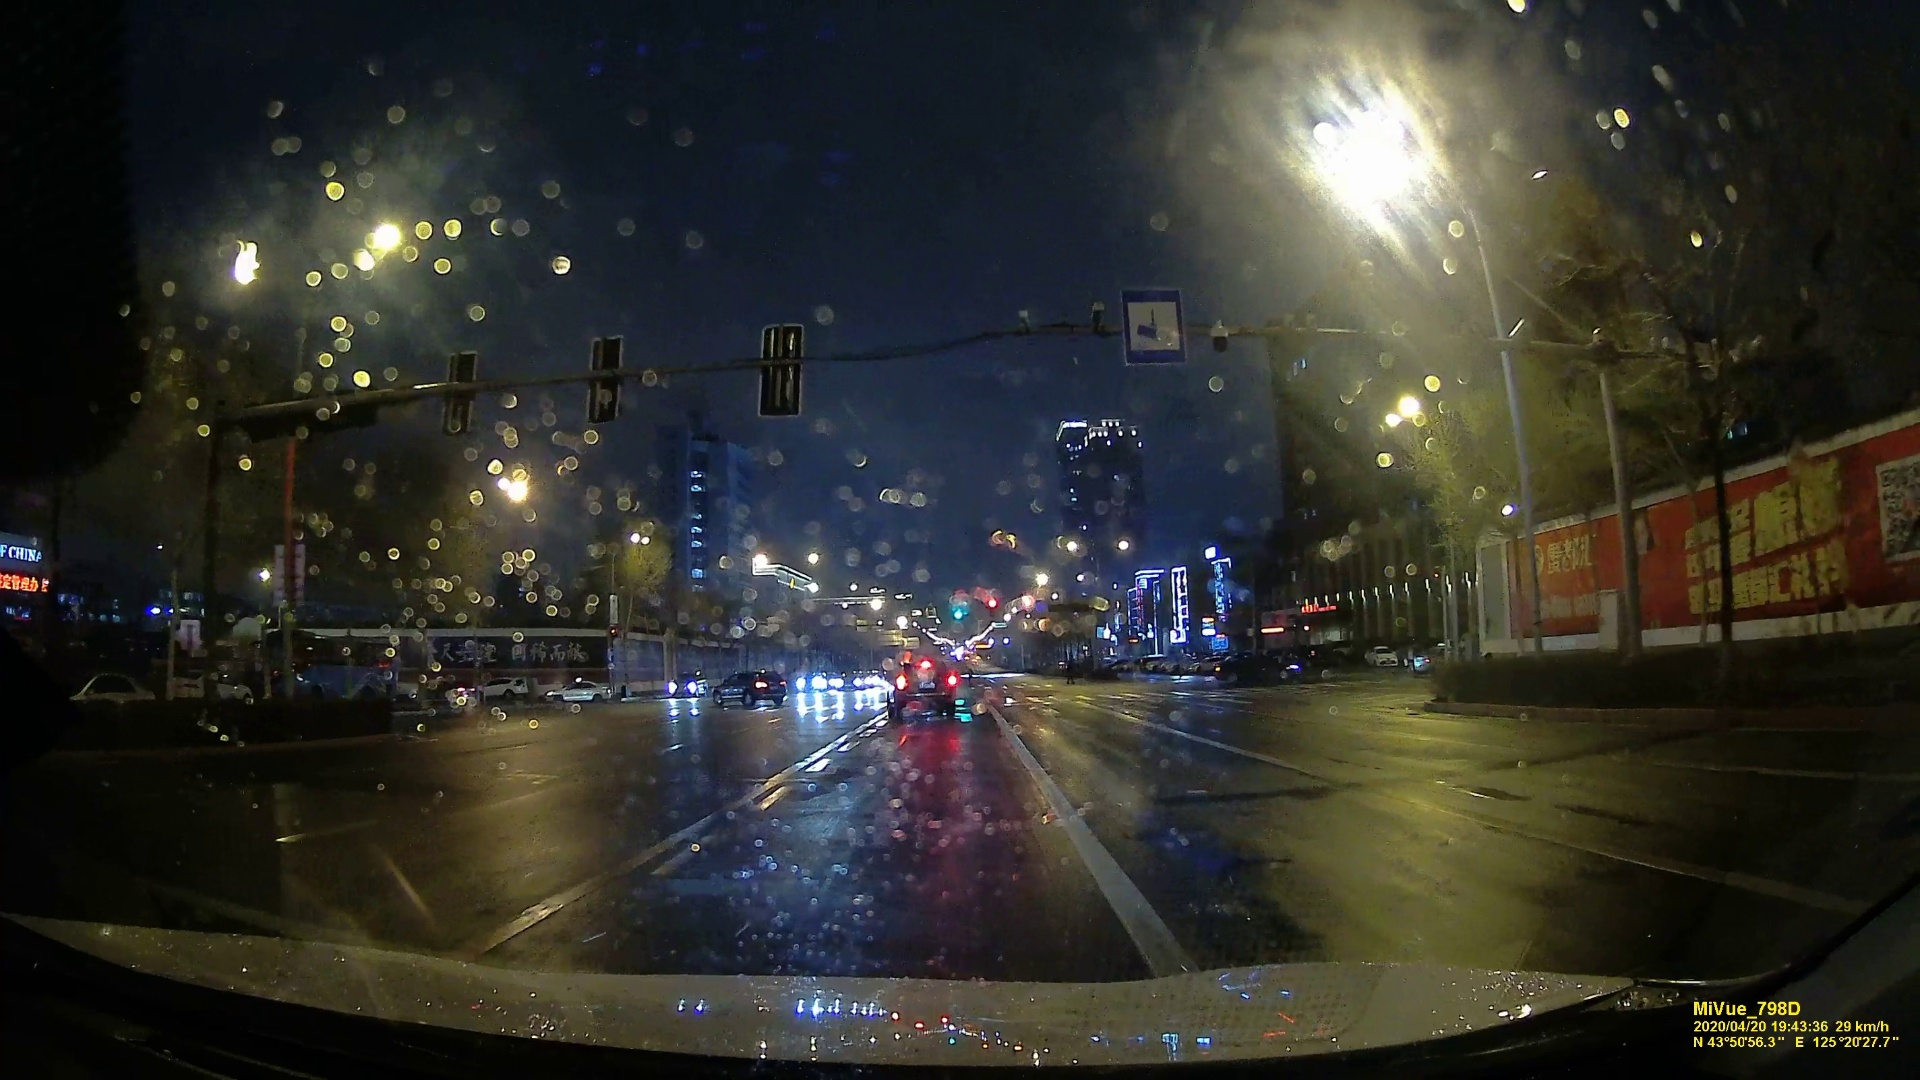person: (1064, 657, 1076, 685)
traffic_sign: (1117, 288, 1182, 359)
vehicle: (889, 662, 955, 717), (1213, 650, 1301, 685), (710, 670, 785, 705), (543, 679, 613, 705), (666, 671, 708, 700), (1366, 646, 1398, 665)
